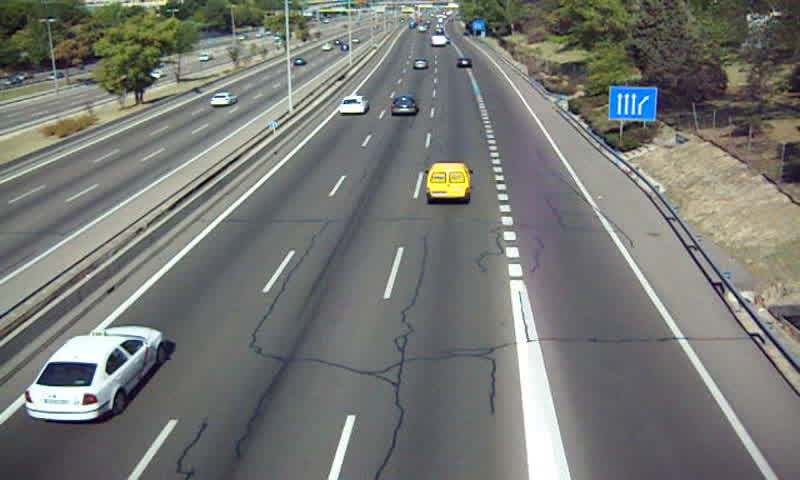car: (23, 326, 166, 423), (390, 95, 419, 117), (338, 94, 368, 115), (456, 56, 474, 70), (412, 58, 428, 72)
van: (426, 163, 472, 204)
